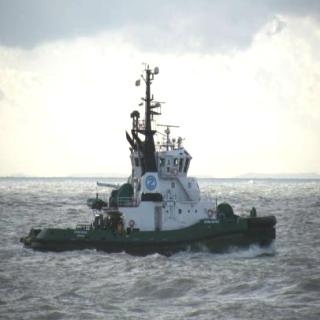Tug Boat: (32, 73, 275, 250)
